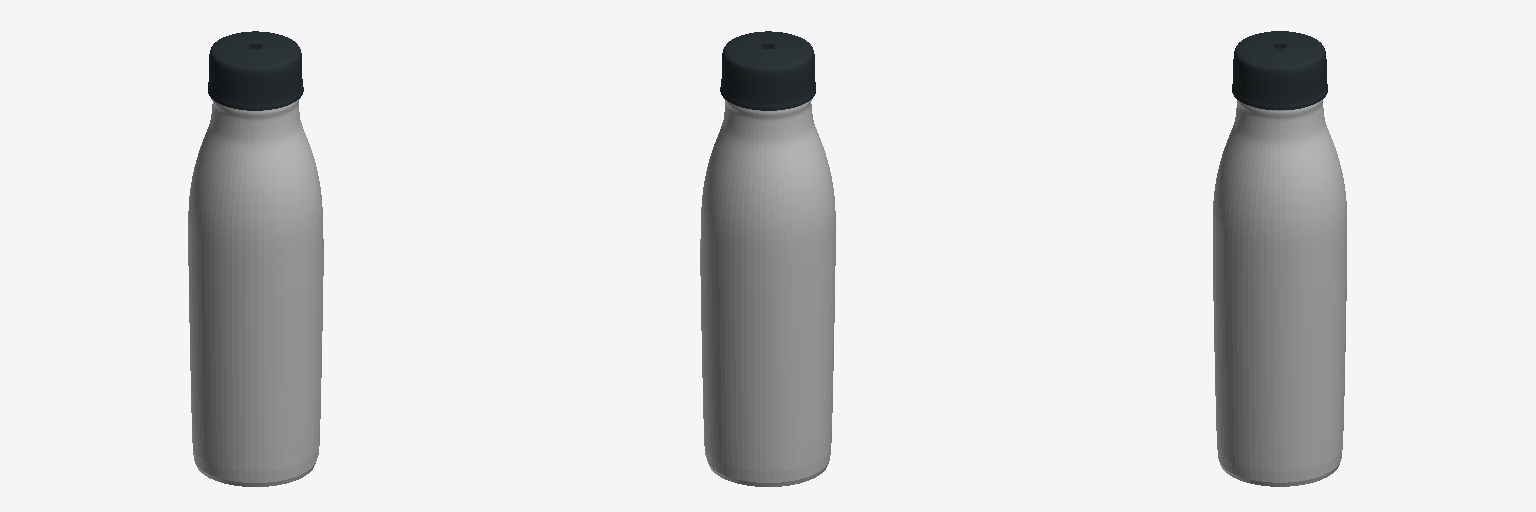
The model's file is garrafa.obj.
The picture shows the model from 3 angles: view 1: azimuth 30°, elevation 25°; view 2: azimuth 150°, elevation 25°; view 3: azimuth 270°, elevation 25°; orthographic projection.
Parts seen in each view (by area): view 1: Plane.001, Plane.002, tarken_logo; view 2: Plane.001, Plane.002, tarken_logo; view 3: Plane.001, tarken_logo, Plane.002.
Part boxes in pixels (bbox=[...]): Plane.001: bbox=[188, 99, 322, 486]; Plane.002: bbox=[208, 31, 303, 110]; tarken_logo: bbox=[316, 239, 323, 458]; Plane.001: bbox=[701, 99, 835, 486]; Plane.002: bbox=[720, 31, 815, 110]; tarken_logo: bbox=[700, 239, 708, 459]; Plane.001: bbox=[1213, 100, 1346, 486]; tarken_logo: bbox=[1229, 260, 1332, 479]; Plane.002: bbox=[1232, 31, 1327, 109].
Size of the model in its own units: 1.28 by 4.35 by 1.27.